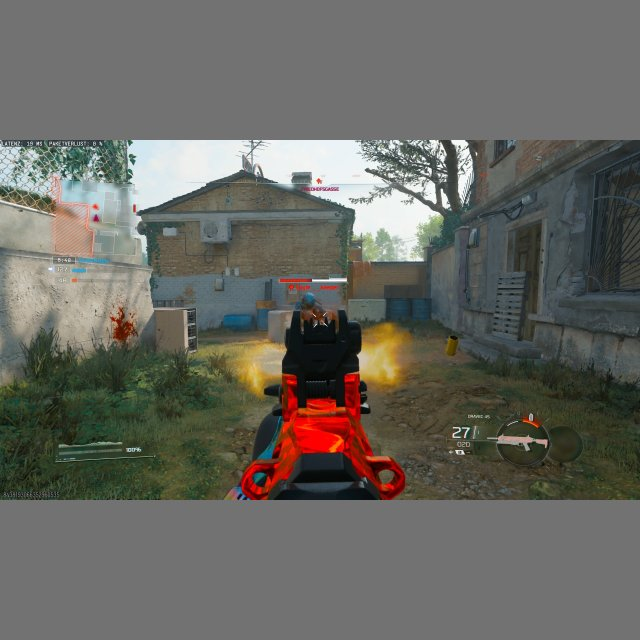head: (302, 292, 315, 306)
player: (296, 292, 327, 327)
